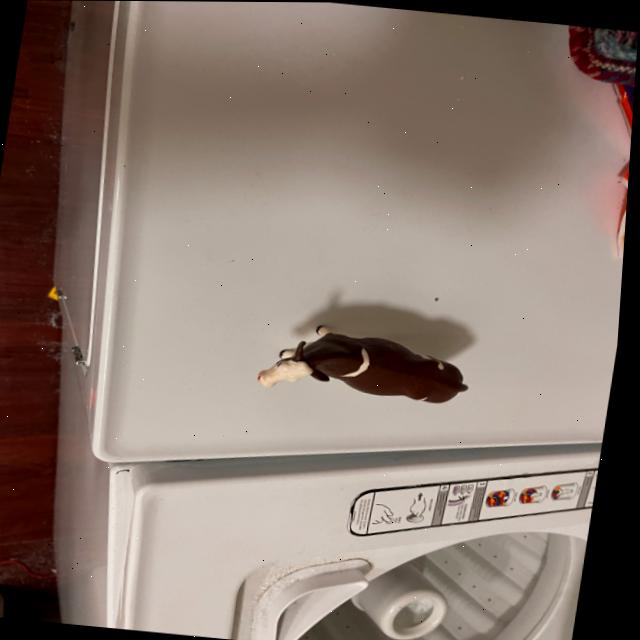cow: (261, 317, 478, 416)
